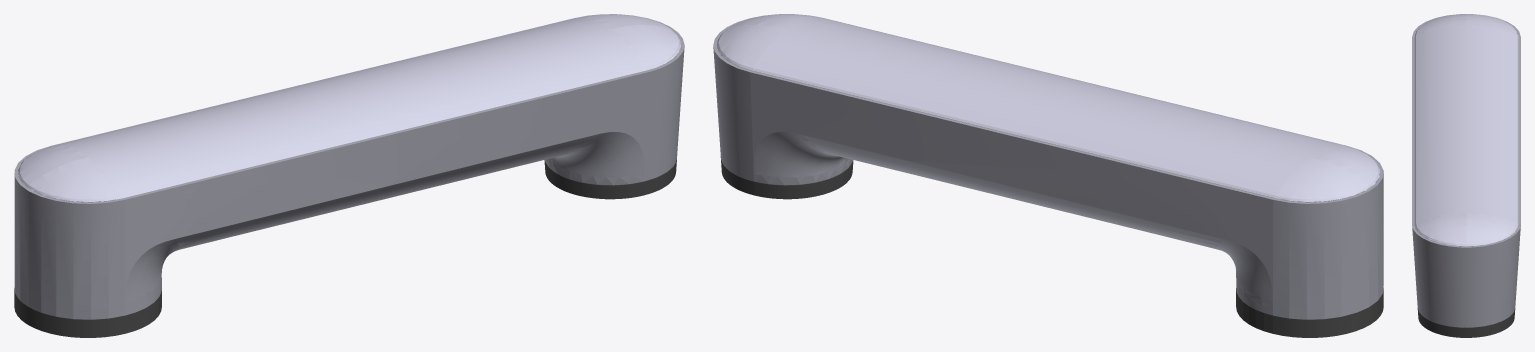
3 views of the same model, side by side, from view 1: azimuth 30°, elevation 25°; view 2: azimuth 150°, elevation 25°; view 3: azimuth 270°, elevation 25° (orthographic). The views are drawn at different scales.
Parts seen in each view (by area): view 1: mesh; view 2: mesh; view 3: mesh.
Part boxes in pixels (bbox=[...]): mesh: bbox=[14, 14, 684, 337]; mesh: bbox=[713, 14, 1383, 337]; mesh: bbox=[1412, 14, 1520, 337].
Size of the model in its own units: 0.5287 by 0.1042 by 0.1166.
